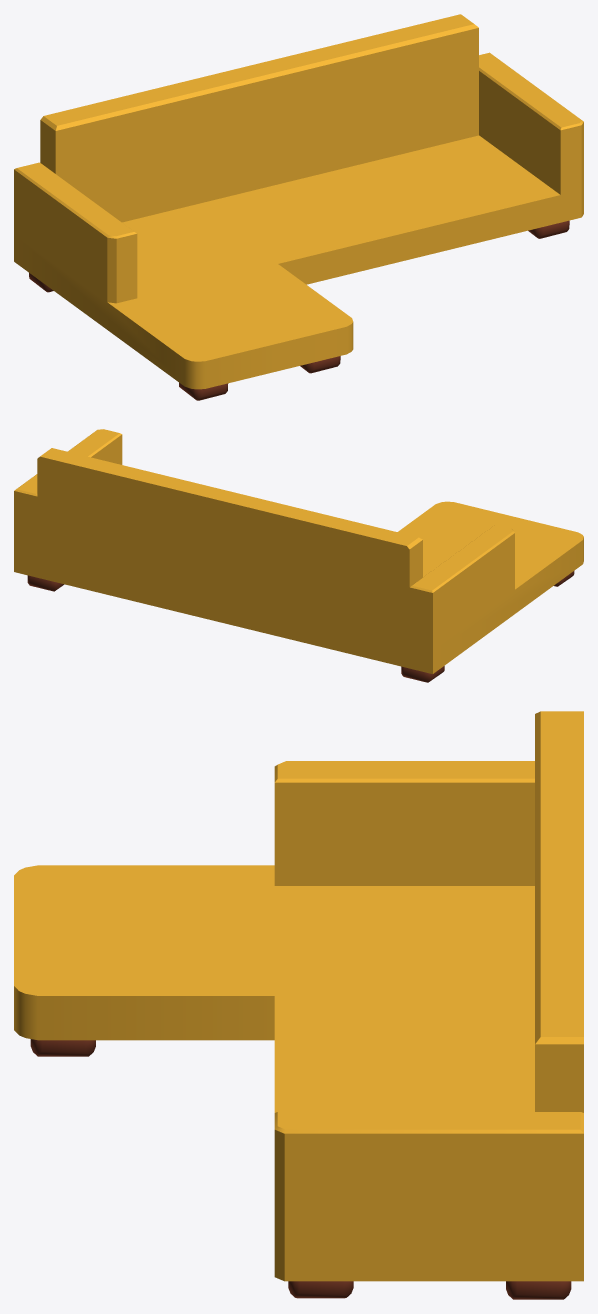
File: Sofa_Base.fbx
The picture shows the model from 3 angles, top to bottom: view 1: azimuth 30°, elevation 25°; view 2: azimuth 150°, elevation 25°; view 3: azimuth 270°, elevation 25°; orthographic projection. The views are drawn at different scales.
Visible parts, largest first — view 1: Sofa_Base; view 2: Sofa_Base; view 3: Sofa_Base.
Part boxes in pixels (x1,y1,x2,y2): Sofa_Base: (14,14,583,400); Sofa_Base: (14,429,583,682); Sofa_Base: (14,711,583,1299).
Bounding box in the file's own units: 270 × 85 × 175.
Materials: 2 (2 with a texture image).
